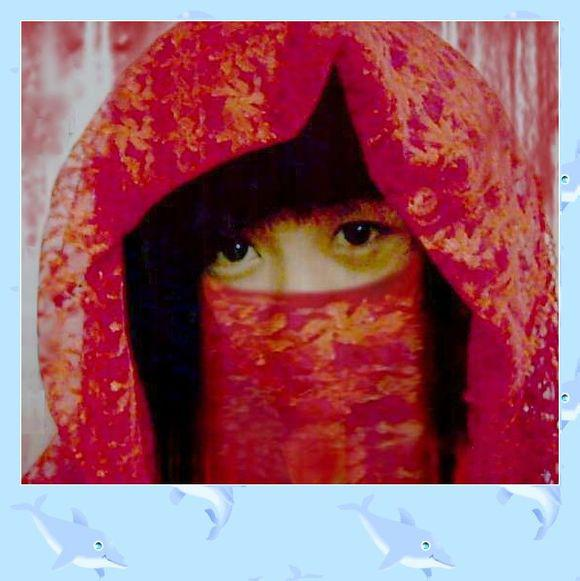OK: (175, 185, 451, 461)
